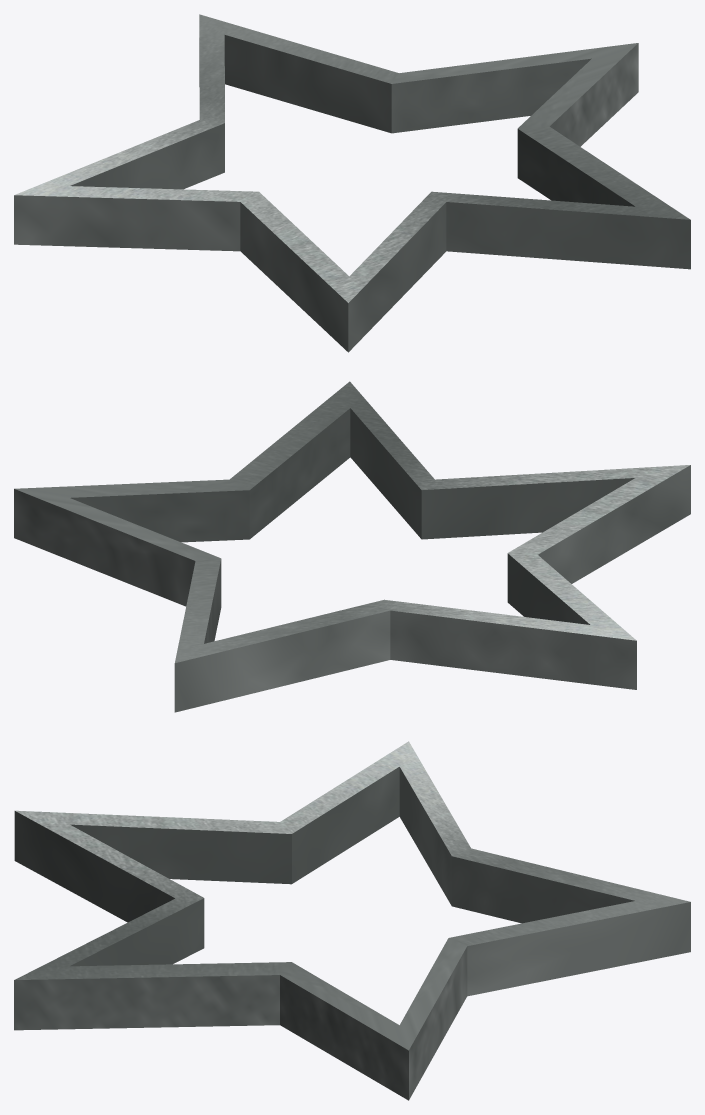
Rendered from cutOutStar.fbx.
3 renders of one model, top to bottom at view 1: azimuth 30°, elevation 25°; view 2: azimuth 150°, elevation 25°; view 3: azimuth 270°, elevation 25°, orthographic.
Visible parts, largest first — view 1: pDisc1; view 2: pDisc1; view 3: pDisc1.
Part boxes in pixels (bbox=[...]): pDisc1: bbox=[14, 14, 690, 352]; pDisc1: bbox=[14, 381, 690, 712]; pDisc1: bbox=[14, 741, 690, 1100].
Size of the model in its own units: 33.38 by 2.53 by 30.87.
1 material, 1 textured.
